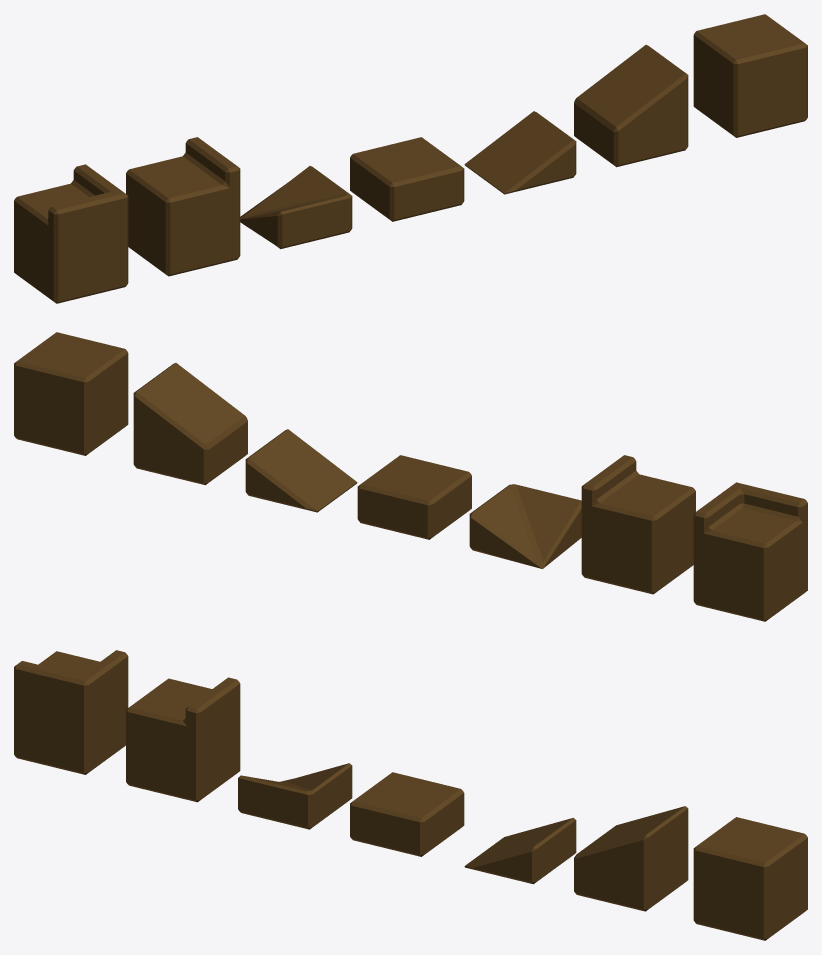
File: lvlBlocks.glb
3 views of the same model, one above another, from view 1: azimuth 30°, elevation 25°; view 2: azimuth 150°, elevation 25°; view 3: azimuth 330°, elevation 25° (orthographic).
Visible parts, largest first — view 1: blockAngleWall, blockWall, block, ramp-top, shortBlock, rampLowerCorner, ramp-bottom; view 2: blockAngleWall, blockWall, block, ramp-top, shortBlock, rampLowerCorner, ramp-bottom; view 3: blockAngleWall, blockWall, block, ramp-top, shortBlock, rampLowerCorner, ramp-bottom.
Boxes of the visible parts, x1=… form: blockAngleWall: x1=14, y1=164, x2=128, y2=303; blockWall: x1=126, y1=137, x2=240, y2=276; block: x1=693, y1=14, x2=807, y2=137; ramp-top: x1=574, y1=45, x2=688, y2=167; shortBlock: x1=350, y1=137, x2=464, y2=221; rampLowerCorner: x1=240, y1=166, x2=352, y2=249; ramp-bottom: x1=464, y1=111, x2=576, y2=194; blockAngleWall: x1=693, y1=482, x2=807, y2=621; blockWall: x1=581, y1=455, x2=695, y2=594; block: x1=14, y1=332, x2=128, y2=455; ramp-top: x1=133, y1=363, x2=247, y2=485; shortBlock: x1=357, y1=455, x2=471, y2=539; rampLowerCorner: x1=469, y1=484, x2=581, y2=568; ramp-bottom: x1=245, y1=429, x2=357, y2=512; blockAngleWall: x1=14, y1=650, x2=128, y2=774; blockWall: x1=126, y1=677, x2=240, y2=802; block: x1=693, y1=817, x2=807, y2=940; ramp-top: x1=574, y1=806, x2=688, y2=911; shortBlock: x1=350, y1=772, x2=464, y2=856; rampLowerCorner: x1=238, y1=763, x2=352, y2=829; ramp-bottom: x1=464, y1=817, x2=576, y2=884.
Size of what is drawn, in the model's own units: 20.21 by 2.4 by 2.
